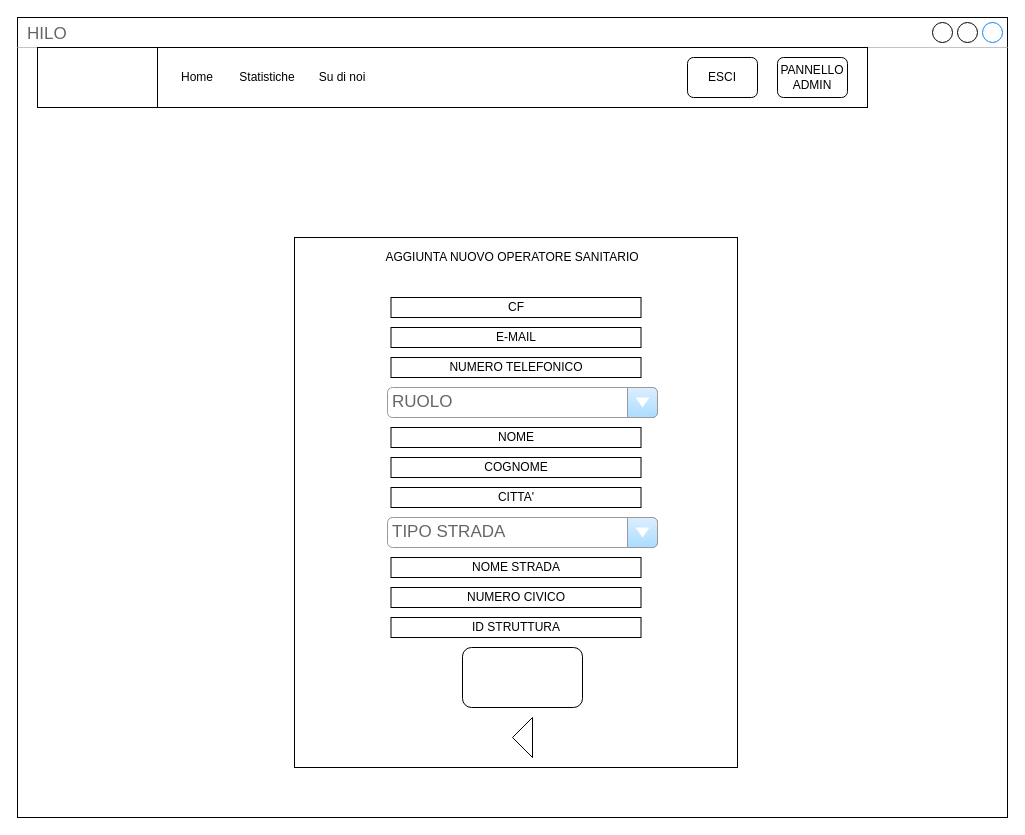
Image size: 1025x835. Some labels were removed from this diagram. Here are the shapes that lost their labels. From the top down, the centre of each, then its label:
point 97,77: LOGO
point 522,677: INVIA
